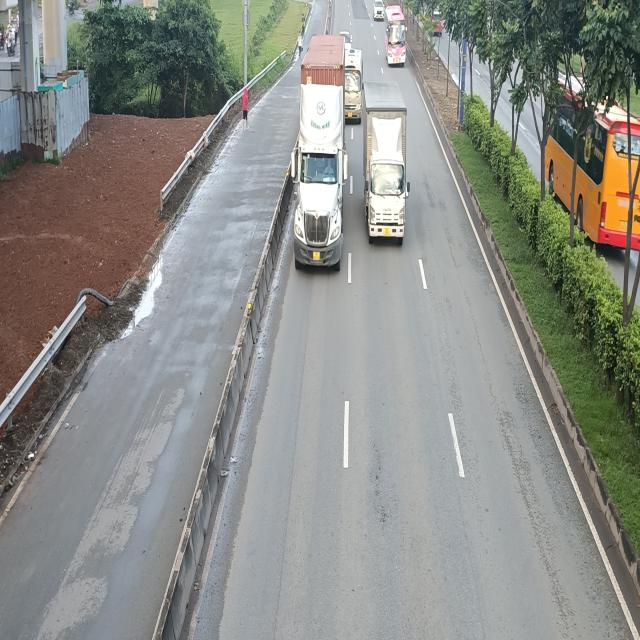coach: (341, 42, 363, 124), (386, 7, 408, 69)
container: (289, 34, 347, 272)
truck: (361, 84, 408, 243)
